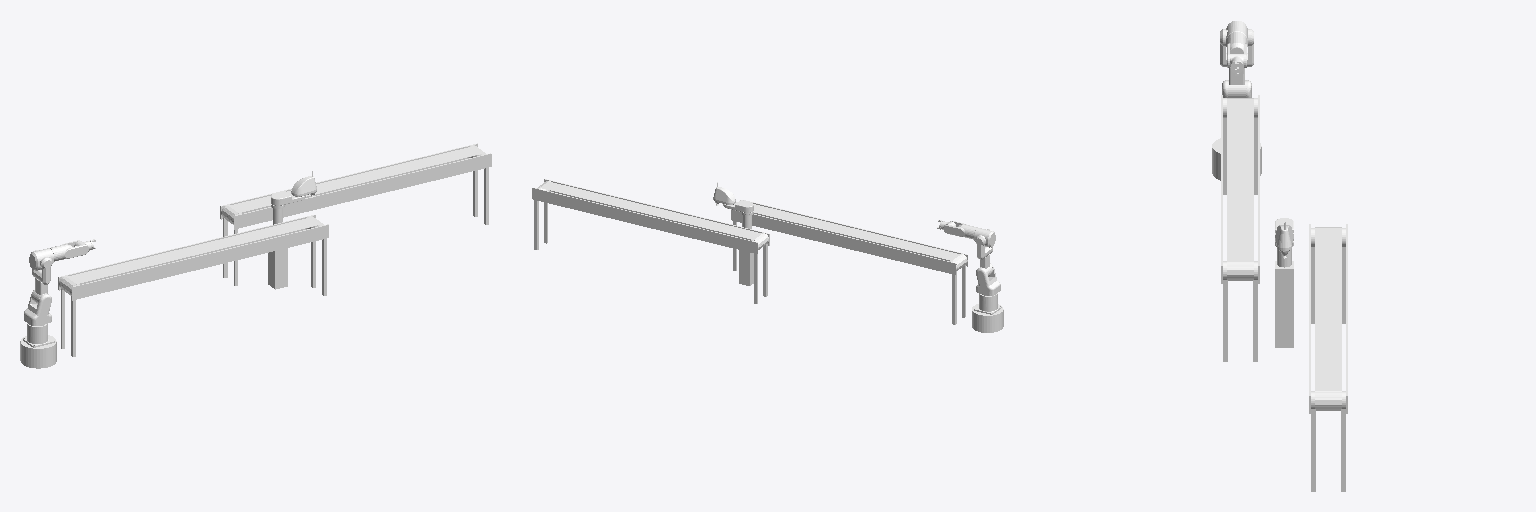
--- What the picture shows (computed from the rendered views, not written in the file) ---
3 views of the same robot in one strip: view 1: azimuth 30°, elevation 25°; view 2: azimuth 150°, elevation 25°; view 3: azimuth 270°, elevation 25° (orthographic).
Model rod_projekt2 with 20 links and 19 joints (9 revolute, 3 prismatic, 7 fixed), rooted at world, posed every joint at zero.
Visible links, largest first — view 1: conveyor1_joint, conveyor2_joint, sixaxissocket, scarasocket_joint, sixaxis_j1, sixaxis_j2; view 2: conveyor2_joint, conveyor1_joint, sixaxissocket, sixaxis_j1; view 3: conveyor2_joint, conveyor1_joint, scarasocket_joint, sixaxis_j2.
Link boxes in pixels (bbox=[...]): conveyor1_joint: bbox=[58, 215, 328, 356]; conveyor2_joint: bbox=[220, 143, 491, 285]; sixaxissocket: bbox=[20, 335, 56, 368]; scarasocket_joint: bbox=[268, 248, 287, 289]; sixaxis_j1: bbox=[24, 290, 51, 325]; sixaxis_j2: bbox=[32, 250, 51, 303]; conveyor2_joint: bbox=[532, 179, 769, 303]; conveyor1_joint: bbox=[731, 200, 967, 324]; sixaxissocket: bbox=[972, 304, 1003, 332]; sixaxis_j1: bbox=[976, 263, 1000, 295]; conveyor2_joint: bbox=[1309, 224, 1347, 491]; conveyor1_joint: bbox=[1221, 95, 1259, 361]; scarasocket_joint: bbox=[1275, 261, 1293, 347]; sixaxis_j2: bbox=[1220, 29, 1253, 97].
Size in the robot's own frame: 7.9 by 1.37 by 1.67 metres.
Meshes: 19 distinct files referenced, 19 mesh visuals loaded (19 binary STL).

The robot description file, URDF, robot "rod_projekt2":
<?xml version="1.0" encoding="utf-8" ?>
<!-- This URDF was automatically created by SolidWorks to URDF Exporter! Originally created by Stephen Brawner ([email redacted]) 
     Commit Version: 1.6.0-4-g7f85cfe  Build Version: 1.6.7995.38578
     For more information, please see http://wiki.ros.org/sw_urdf_exporter -->
<robot name="rod_projekt2">
    <!-- Root-Link: "world" -->
    <link name="world">
        <inertial>
            <mass value="0.001" />
            <inertia ixx="0.001" ixy="0" ixz="0" iyy="0.001" iyz="0" izz="0.001" />
        </inertial>
    </link>
    <!-- Verbinde "world" mit "baselink" -->
    <joint name="world_to_base_joint" type="fixed">
        <parent link="world" />
        <child link="baselink" />
        <origin xyz="0 0 0" rpy="0 0 0" />
    </joint>
    <link name="baselink">
        <inertial>
            <origin xyz="2.4124611990646 1.04377091218881 0.64" rpy="0 0 0" />
            <mass value="46.1322926928931" />
            <inertia ixx="0.490071729660883" ixy="3.21899023150044E-18" ixz="-8.11670976067688E-20" iyy="0.131263595085593" iyz="-6.1674335020889E-18" izz="0.490071729660883" />
        </inertial>
        <visual>
            <origin xyz="0 0 0" rpy="0 0 0" />
            <geometry>
                <mesh filename="package://rod_projekt2/meshes/baselink.STL" />
            </geometry>
            <material name="">
                <color rgba="1 1 1 1" />
            </material>
        </visual>
        <collision>
            <origin xyz="0 0 0" rpy="0 0 0" />
            <geometry>
                <mesh filename="package://rod_projekt2/meshes/baselink.STL" />
            </geometry>
        </collision>
    </link>
    <link name="scara_basejoint">
        <inertial>
            <origin xyz="0.075 0 0.16377" rpy="0 0 0" />
            <mass value="46.132" />
            <inertia ixx="0.49007" ixy="9.4154E-20" ixz="3.2108E-18" iyy="0.49007" iyz="5.7519E-18" izz="0.13126" />
        </inertial>
        <visual>
            <origin xyz="0 0 0" rpy="0 0 0" />
            <geometry>
                <mesh filename="package://rod_projekt2/meshes/scara_basejoint.STL" />
            </geometry>
            <material name="">
                <color rgba="1 1 1 1" />
            </material>
        </visual>
        <collision>
            <origin xyz="0 0 0" rpy="0 0 0" />
            <geometry>
                <mesh filename="package://rod_projekt2/meshes/scara_basejoint.STL" />
            </geometry>
        </collision>
    </link>
    <joint name="sj0" type="fixed">
        <origin xyz="2.3374611990646 -0.64 0.88" rpy="0 0 0" />
        <parent link="baselink" />
        <child link="scara_basejoint" />
        <axis xyz="0 0 0" />
    </joint>
    <link name="scara_j1">
        <inertial>
            <origin xyz="0.22082 9.31E-07 0.051377" rpy="0 0 0" />
            <mass value="49.593" />
            <inertia ixx="0.2229" ixy="-2.8701E-17" ixz="0.073968" iyy="0.73689" iyz="1.955E-17" izz="0.86509" />
        </inertial>
        <visual>
            <origin xyz="0 0 0" rpy="0 0 0" />
            <geometry>
                <mesh filename="package://rod_projekt2/meshes/scara_j1.STL" />
            </geometry>
            <material name="">
                <color rgba="1 1 1 1" />
            </material>
        </visual>
        <collision>
            <origin xyz="0 0 0" rpy="0 0 0" />
            <geometry>
                <mesh filename="package://rod_projekt2/meshes/scara_j1.STL" />
            </geometry>
        </collision>
    </link>
    <joint name="sj1" type="revolute">
        <origin xyz="-0.025 0 0.375" rpy="0 0 0" />
        <parent link="scara_basejoint" />
        <child link="scara_j1" />
        <axis xyz="0 0 1" />
        <limit lower="-2.7" upper="2.7" effort="10" velocity="9.2" />
        <dynamics damping="10" friction="0.1" />
    </joint>
    <link name="scara_j2">
        <inertial>
            <origin xyz="-0.21736 2.0369E-08 -0.084883" rpy="0 0 0" />
            <mass value="32.585" />
            <inertia ixx="0.16446" ixy="-2.6672E-07" ixz="0.005016" iyy="0.37728" iyz="1.5574E-07" izz="0.32874" />
        </inertial>
        <visual>
            <origin xyz="0 0 0" rpy="0 0 0" />
            <geometry>
                <mesh filename="package://rod_projekt2/meshes/scara_j2.STL" />
            </geometry>
            <material name="">
                <color rgba="1 1 1 1" />
            </material>
        </visual>
        <collision>
            <origin xyz="0 0 0" rpy="0 0 0" />
            <geometry>
                <mesh filename="package://rod_projekt2/meshes/scara_j2.STL" />
            </geometry>
        </collision>
    </link>
    <joint name="sj2" type="revolute">
        <origin xyz="0.32045 0 0.06" rpy="3.1416 0 3.1416" />
        <parent link="scara_j1" />
        <child link="scara_j2" />
        <axis xyz="0 0 1" />
        <limit lower="-2.7" upper="2.7" effort="10" velocity="9.2" />
        <dynamics damping="10" friction="0.1" />
    </joint>
    <link name="scara_j3">
        <inertial>
            <origin xyz="-0.01 -1.1102E-16 -0.185" rpy="0 0 0" />
            <mass value="0.46031" />
            <inertia ixx="0.0052628" ixy="-2.3008E-35" ixz="-5.772E-20" iyy="0.0052628" iyz="-2.5583E-19" izz="2.3015E-05" />
        </inertial>
        <visual>
            <origin xyz="0 0 0" rpy="0 0 0" />
            <geometry>
                <mesh filename="package://rod_projekt2/meshes/scara_j3.STL" />
            </geometry>
            <material name="">
                <color rgba="1 1 1 1" />
            </material>
        </visual>
        <collision>
            <origin xyz="0 0 0" rpy="0 0 0" />
            <geometry>
                <mesh filename="package://rod_projekt2/meshes/scara_j3.STL" />
            </geometry>
        </collision>
    </link>
    <joint name="sj3" type="prismatic">
        <origin xyz="-0.31955 0 0.06926" rpy="0 0 0" />
        <parent link="scara_j2" />
        <child link="scara_j3" />
        <axis xyz="0 0 1" />
        <limit lower="0" upper="0.32" effort="10" velocity="2" />
        <dynamics damping="10" friction="0.1" />
    </joint>
    <link name="scara_jEE">
        <inertial>
            <origin xyz="0.011193 0.0086433 0.011596" rpy="0 0 0" />
            <mass value="0.0073471" />
            <inertia ixx="1.5696E-06" ixy="-2.647E-22" ixz="-7.7943E-22" iyy="1.5696E-06" iyz="-2.5974E-23" izz="2.4657E-06" />
        </inertial>
        <visual>
            <origin xyz="0 0 0" rpy="0 0 0" />
            <geometry>
                <mesh filename="package://rod_projekt2/meshes/scara_jEE.STL" />
            </geometry>
            <material name="">
                <color rgba="1 1 1 1" />
            </material>
        </visual>
        <collision>
            <origin xyz="0 0 0" rpy="0 0 0" />
            <geometry>
                <mesh filename="package://rod_projekt2/meshes/scara_jEE.STL" />
            </geometry>
        </collision>
    </link>
    <joint name="sjEE" type="revolute">
        <origin xyz="0 0.01 0" rpy="0 0 -3.0137" />
        <parent link="scara_j3" />
        <child link="scara_jEE" />
        <axis xyz="0 0 1" />
        <limit lower="-6.2" upper="6.2" effort="10" velocity="41.9" />
        <dynamics damping="10" friction="0.1" />
    </joint>
    <link name="sixaxis_joint">
        <inertial>
            <origin xyz="-0.18625 0.158 0.14734" rpy="0 0 0" />
            <mass value="172.39" />
            <inertia ixx="2.4169" ixy="3.8862E-17" ixz="0.040811" iyy="2.4528" iyz="5.2177E-16" izz="1.9871" />
        </inertial>
        <visual>
            <origin xyz="0 0 0" rpy="0 0 0" />
            <geometry>
                <mesh filename="package://rod_projekt2/meshes/sixaxis_joint.STL" />
            </geometry>
            <material name="">
                <color rgba="1 1 1 1" />
            </material>
        </visual>
        <collision>
            <origin xyz="0 0 0" rpy="0 0 0" />
            <geometry>
                <mesh filename="package://rod_projekt2/meshes/sixaxis_joint.STL" />
            </geometry>
        </collision>
    </link>
    <joint name="saj0" type="fixed">
        <origin xyz="-1.5115 -1.28 0.3" rpy="0 0 0" />
        <parent link="baselink" />
        <child link="sixaxis_joint" />
        <axis xyz="0 0 0" />
    </joint>
    <link name="sixaxis_j1">
        <inertial>
            <origin xyz="0.166407888777253 0.00270619711331221 0.131756348004992" rpy="0 0 0" />
            <mass value="164.220243766125" />
            <inertia ixx="3.1527749049479" ixy="0.0229019541898426" ixz="0.258298374909936" iyy="2.83920937497612" iyz="-0.0879512707996945" izz="2.5052516173233" />
        </inertial>
        <visual>
            <origin xyz="0 0 0" rpy="0 0 0" />
            <geometry>
                <mesh filename="package://rod_projekt2/meshes/sixaxis_j1.STL" />
            </geometry>
            <material name="">
                <color rgba="1 1 1 1" />
            </material>
        </visual>
        <collision>
            <origin xyz="0 0 0" rpy="0 0 0" />
            <geometry>
                <mesh filename="package://rod_projekt2/meshes/sixaxis_j1.STL" />
            </geometry>
        </collision>
    </link>
    <joint name="saj1" type="revolute">
        <origin xyz="-0.18117 0.158 0.317" rpy="0 0 3.1416" />
        <parent link="sixaxis_joint" />
        <child link="sixaxis_j1" />
        <axis xyz="0 0 1" />
        <limit lower="-4.3" upper="4.3" effort="10" velocity="8" />
        <dynamics damping="10" friction="0.1" />
    </joint>
    <link name="sixaxis_j2">
        <inertial>
            <origin xyz="0.099999995682398 0.258404064748791 -0.00035671799470105" rpy="0 0 0" />
            <mass value="151.815580162929" />
            <inertia ixx="3.13807003006497" ixy="7.52213431799499E-08" ixz="-3.89620739979185E-07" iyy="1.57443223206953" iyz="0.102886484823696" izz="2.07831344045908" />
        </inertial>
        <visual>
            <origin xyz="0 0 0" rpy="0 0 0" />
            <geometry>
                <mesh filename="package://rod_projekt2/meshes/sixaxis_j2.STL" />
            </geometry>
            <material name="">
                <color rgba="1 1 1 1" />
            </material>
        </visual>
        <collision>
            <origin xyz="0 0 0" rpy="0 0 0" />
            <geometry>
                <mesh filename="package://rod_projekt2/meshes/sixaxis_j2.STL" />
            </geometry>
        </collision>
    </link>
    <joint name="saj2" type="revolute">
        <origin xyz="-0.054129 -0.002 0.32966" rpy="1.5708 0 0" />
        <parent link="sixaxis_j1" />
        <child link="sixaxis_j2" />
        <axis xyz="0 0 1" />
        <limit lower="-2" upper="2" effort="10" velocity="6.6" />
        <dynamics damping="10" friction="0.1" />
    </joint>
    <link name="sixaxis_j3">
        <inertial>
            <origin xyz="0.00477403537382637 0.0140978139883048 -0.113360157742862" rpy="0 0 0" />
            <mass value="96.5882594701658" />
            <inertia ixx="0.992964122192071" ixy="0.00372656475176859" ixz="-0.00446756292674667" iyy="0.882062716412936" iyz="-0.0866313255434464" izz="0.748146671136659" />
        </inertial>
        <visual>
            <origin xyz="0 0 0" rpy="0 0 0" />
            <geometry>
                <mesh filename="package://rod_projekt2/meshes/sixaxis_j3.STL" />
            </geometry>
            <material name="">
                <color rgba="1 1 1 1" />
            </material>
        </visual>
        <collision>
            <origin xyz="0 0 0" rpy="0 0 0" />
            <geometry>
                <mesh filename="package://rod_projekt2/meshes/sixaxis_j3.STL" />
            </geometry>
        </collision>
    </link>
    <joint name="saj3" type="revolute">
        <origin xyz="0 0.556 0" rpy="-1.5708 0 0" />
        <parent link="sixaxis_j2" />
        <child link="sixaxis_j3" />
        <axis xyz="0 1 0" />
        <limit lower="-3.6" upper="1" effort="10" velocity="4.9" />
        <dynamics damping="10" friction="0.1" />
    </joint>
    <link name="sixaxis_j4">
        <inertial>
            <origin xyz="0.000575031491278022 -1.46367007403114E-09 0.230214046287128" rpy="0 0 0" />
            <mass value="103.895632295874" />
            <inertia ixx="2.36014054037978" ixy="4.11178078944612E-07" ixz="-0.0166553919102085" iyy="2.48389418843073" iyz="8.85356435200728E-09" izz="0.597811257920955" />
        </inertial>
        <visual>
            <origin xyz="0 0 0" rpy="0 0 0" />
            <geometry>
                <mesh filename="package://rod_projekt2/meshes/sixaxis_j4.STL" />
            </geometry>
            <material name="">
                <color rgba="1 1 1 1" />
            </material>
        </visual>
        <collision>
            <origin xyz="0 0 0" rpy="0 0 0" />
            <geometry>
                <mesh filename="package://rod_projekt2/meshes/sixaxis_j4.STL" />
            </geometry>
        </collision>
    </link>
    <joint name="saj4" type="revolute">
        <origin xyz="-0.12767 0 0.064" rpy="-1.5708 0 1.5708" />
        <parent link="sixaxis_j3" />
        <child link="sixaxis_j4" />
        <axis xyz="0 0 1" />
        <limit lower="-7" upper="7" effort="10" velocity="9.8" />
        <dynamics damping="10" friction="0.1" />
    </joint>
    <link name="sixaxis_j5">
        <inertial>
            <origin xyz="-0.00132228380306176 -0.105473198222159 0.064486899124544" rpy="0 0 0" />
            <mass value="23.7724316733649" />
            <inertia ixx="0.1051788978244" ixy="-3.63114897995818E-08" ixz="7.90289903055959E-08" iyy="0.0644734231624818" iyz="0.0017442400121925" izz="0.110248713744064" />
        </inertial>
        <visual>
            <origin xyz="0 0 0" rpy="0 0 0" />
            <geometry>
                <mesh filename="package://rod_projekt2/meshes/sixaxis_j5.STL" />
            </geometry>
            <material name="">
                <color rgba="1 1 1 1" />
            </material>
        </visual>
        <collision>
            <origin xyz="0 0 0" rpy="0 0 0" />
            <geometry>
                <mesh filename="package://rod_projekt2/meshes/sixaxis_j5.STL" />
            </geometry>
        </collision>
    </link>
    <joint name="saj5" type="revolute">
        <origin xyz="-0.067 0 0.43271" rpy="-1.5708 0.017333 -1.5708" />
        <parent link="sixaxis_j4" />
        <child link="sixaxis_j5" />
        <axis xyz="0 1 0" />
        <limit lower="-2.2" upper="2.1" effort="10" velocity="7.3" />
        <dynamics damping="10" friction="0.1" />
    </joint>
    <link name="sixaxis_j6">
        <inertial>
            <origin xyz="-0.000713321367931341 0 0.036266834544977" rpy="0 0 0" />
            <mass value="2.91352376315292" />
            <inertia ixx="0.00448039616987277" ixy="-3.76127611298156E-21" ixz="8.50421079043318E-18" iyy="0.00446708256987277" iyz="-2.35027871789775E-19" izz="0.00668986164707731" />
        </inertial>
        <visual>
            <origin xyz="0 0 0" rpy="0 0 0" />
            <geometry>
                <mesh filename="package://rod_projekt2/meshes/sixaxis_j6.STL" />
            </geometry>
            <material name="">
                <color rgba="1 1 1 1" />
            </material>
        </visual>
        <collision>
            <origin xyz="0 0 0" rpy="0 0 0" />
            <geometry>
                <mesh filename="package://rod_projekt2/meshes/sixaxis_j6.STL" />
            </geometry>
        </collision>
    </link>
    <joint name="saj6" type="revolute">
        <origin xyz="-0.00060895 -0.17613 0.067" rpy="1.5708 0 0" />
        <parent link="sixaxis_j5" />
        <child link="sixaxis_j6" />
        <axis xyz="0 0 1" />
        <limit lower="-14" upper="14" effort="100" velocity="13.1" />
        <dynamics damping="0.01" friction="0.1" />
    </joint>
    <link name="sixaxis_jGripper1">
        <inertial>
            <origin xyz="-1.62629007463248 -1.1315 -0.798605535675052" rpy="0 0 0" />
            <mass value="0.5024" />
            <inertia ixx="0.000394593333333336" ixy="2.19799999999998E-05" ixz="0.000194679999999999" iyy="0.000545313333333333" iyz="-4.39600000000003E-05" izz="0.000228173333333331" />
        </inertial>
        <visual>
            <origin xyz="0 0 0" rpy="0 0 0" />
            <geometry>
                <mesh filename="package://rod_projekt2/meshes/sixaxis_jGripper1.STL" />
            </geometry>
            <material name="">
                <color rgba="1 1 1 1" />
            </material>
        </visual>
        <collision>
            <origin xyz="0 0 0" rpy="0 0 0" />
            <geometry>
                <mesh filename="package://rod_projekt2/meshes/sixaxis_jGripper1.STL" />
            </geometry>
        </collision>
    </link>
    <joint name="saEE1" type="prismatic">
        <origin xyz="-1.5845 -1.12 0.87475" rpy="0 0 3.1416" />
        <parent link="sixaxis_j6" />
        <child link="sixaxis_jGripper1" />
        <axis xyz="0 0 1" />
        <limit lower="-20" upper="0" effort="10" velocity="3.14" />
        <dynamics damping="10" friction="0.1" />
    </joint>
    <link name="sixaxis_jGripper2">
        <inertial>
            <origin xyz="1.54129007463247 1.1085 -0.79860553567507" rpy="0 0 0" />
            <mass value="0.5024" />
            <inertia ixx="0.000394593333333336" ixy="2.19799999999997E-05" ixz="0.000194679999999999" iyy="0.000545313333333333" iyz="-4.39600000000002E-05" izz="0.000228173333333331" />
        </inertial>
        <visual>
            <origin xyz="0 0 0" rpy="0 0 0" />
            <geometry>
                <mesh filename="package://rod_projekt2/meshes/sixaxis_jGripper2.STL" />
            </geometry>
            <material name="">
                <color rgba="1 1 1 1" />
            </material>
        </visual>
        <collision>
            <origin xyz="0 0 0" rpy="0 0 0" />
            <geometry>
                <mesh filename="package://rod_projekt2/meshes/sixaxis_jGripper2.STL" />
            </geometry>
        </collision>
    </link>
    <joint name="saEE2" type="prismatic">
        <origin xyz="-1.5845 -1.12 0.87475" rpy="0 0 0" />
        <parent link="sixaxis_j6" />
        <child link="sixaxis_jGripper2" />
        <axis xyz="0 0 1" />
        <limit lower="0" upper="20" effort="10" velocity="3.14" />
        <dynamics damping="10" friction="0.1" />
    </joint>
    <link name="conveyor1_joint">
        <inertial>
            <origin xyz="0.175 0.0218 -0.81251" rpy="0 0 0" />
            <mass value="64.823" />
            <inertia ixx="69.361" ixy="7.6248E-17" ixz="6.1052E-15" iyy="68.535" iyz="0.0012967" izz="1.3786" />
        </inertial>
        <visual>
            <origin xyz="0 0 0" rpy="0 0 0" />
            <geometry>
                <mesh filename="package://rod_projekt2/meshes/conveyor1_joint.STL" />
            </geometry>
            <material name="">
                <color rgba="1 1 1 1" />
            </material>
        </visual>
        <collision>
            <origin xyz="0 0 0" rpy="0 0 0" />
            <geometry>
                <mesh filename="package://rod_projekt2/meshes/conveyor1_joint.STL" />
            </geometry>
        </collision>
    </link>
    <joint name="c1" type="fixed">
        <origin xyz="0 -1.26 0.98" rpy="-1.5708 0 1.5708" />
        <parent link="baselink" />
        <child link="conveyor1_joint" />
        <axis xyz="0 0 0" />
    </joint>
    <link name="conveyor2_joint">
        <inertial>
            <origin xyz="0.175 -2.053 0.0218" rpy="0 0 0" />
            <mass value="64.823" />
            <inertia ixx="69.361" ixy="-2.9977E-15" ixz="4.8068E-18" iyy="1.3786" iyz="0.0012967" izz="68.535" />
        </inertial>
        <visual>
            <origin xyz="0 0 0" rpy="0 0 0" />
            <geometry>
                <mesh filename="package://rod_projekt2/meshes/conveyor2_joint.STL" />
            </geometry>
            <material name="">
                <color rgba="1 1 1 1" />
            </material>
        </visual>
        <collision>
            <origin xyz="0 0 0" rpy="0 0 0" />
            <geometry>
                <mesh filename="package://rod_projekt2/meshes/conveyor2_joint.STL" />
            </geometry>
        </collision>
    </link>
    <joint name="c2" type="fixed">
        <origin xyz="1.8595 -0.02 0.98" rpy="3.1416 0 -1.5708" />
        <parent link="baselink" />
        <child link="conveyor2_joint" />
        <axis xyz="0 0 0" />
    </joint>
    <link name="scarasocket_joint">
        <inertial>
            <origin xyz="0.1 0.44 0" rpy="0 0 0" />
            <mass value="35.2" />
            <inertia ixx="2.3889" ixy="-1.7526E-34" ixz="1.2064E-17" iyy="0.23467" iyz="3.7117E-32" izz="2.3889" />
        </inertial>
        <visual>
            <origin xyz="0 0 0" rpy="0 0 0" />
            <geometry>
                <mesh filename="package://rod_projekt2/meshes/scarasocket_joint.STL" />
            </geometry>
            <material name="">
                <color rgba="1 1 1 1" />
            </material>
        </visual>
        <collision>
            <origin xyz="0 0 0" rpy="0 0 0" />
            <geometry>
                <mesh filename="package://rod_projekt2/meshes/scarasocket_joint.STL" />
            </geometry>
        </collision>
    </link>
    <joint name="sb" type="fixed">
        <origin xyz="2.3125 -0.64 0" rpy="1.5708 0 0" />
        <parent link="baselink" />
        <child link="scarasocket_joint" />
        <axis xyz="0 0 0" />
    </joint>
    <link name="sixaxissocket">
        <inertial>
            <origin xyz="-0.25 0.15 0" rpy="0 0 0" />
            <mass value="58.905" />
            <inertia ixx="1.3622" ixy="-4.2687E-33" ixz="0" iyy="1.8408" iyz="-6.0185E-33" izz="1.3622" />
        </inertial>
        <visual>
            <origin xyz="0 0 0" rpy="0 0 0" />
            <geometry>
                <mesh filename="package://rod_projekt2/meshes/sixaxissocket.STL" />
            </geometry>
            <material name="">
                <color rgba="1 1 1 1" />
            </material>
        </visual>
        <collision>
            <origin xyz="0 0 0" rpy="0 0 0" />
            <geometry>
                <mesh filename="package://rod_projekt2/meshes/sixaxissocket.STL" />
            </geometry>
        </collision>
    </link>
    <joint name="sab" type="fixed">
        <origin xyz="-1.4345388009354 -1.122 0" rpy="1.5707963267949 0 0" />
        <parent link="baselink" />
        <child link="sixaxissocket" />
        <axis xyz="0 0 0" />
    </joint>
    <transmission name="trans_saj1">
        <type>transmission_interface/SimpleTransmission</type>
        <joint name="saj1">
            <hardwareInterface>hardware_interface/PositionJointInterface</hardwareInterface>
        </joint>
        <actuator name="saj1_motor">
            <hardwareInterface>hardware_interface/PositionJointInterface</hardwareInterface>
            <mechanicalReduction>1</mechanicalReduction>
        </actuator>
    </transmission>
    <transmission name="trans_saj2">
        <type>transmission_interface/SimpleTransmission</type>
        <joint name="saj2">
            <hardwareInterface>hardware_interface/PositionJointInterface</hardwareInterface>
        </joint>
        <actuator name="saj2_motor">
            <hardwareInterface>hardware_interface/PositionJointInterface</hardwareInterface>
            <mechanicalReduction>1</mechanicalReduction>
        </actuator>
    </transmission>
    <transmission name="trans_saj3">
        <type>transmission_interface/SimpleTransmission</type>
        <joint name="saj3">
            <hardwareInterface>hardware_interface/PositionJointInterface</hardwareInterface>
        </joint>
        <actuator name="saj3_motor">
            <hardwareInterface>hardware_interface/PositionJointInterface</hardwareInterface>
            <mechanicalReduction>1</mechanicalReduction>
        </actuator>
    </transmission>
    <transmission name="trans_saj4">
        <type>transmission_interface/SimpleTransmission</type>
        <joint name="saj4">
            <hardwareInterface>hardware_interface/PositionJointInterface</hardwareInterface>
        </joint>
        <actuator name="saj4_motor">
            <hardwareInterface>hardware_interface/PositionJointInterface</hardwareInterface>
            <mechanicalReduction>1</mechanicalReduction>
        </actuator>
    </transmission>
    <transmission name="trans_saj5">
        <type>transmission_interface/SimpleTransmission</type>
        <joint name="saj5">
            <hardwareInterface>hardware_interface/PositionJointInterface</hardwareInterface>
        </joint>
        <actuator name="saj5_motor">
            <hardwareInterface>hardware_interface/PositionJointInterface</hardwareInterface>
            <mechanicalReduction>1</mechanicalReduction>
        </actuator>
    </transmission>
    <transmission name="trans_saj6">
        <type>transmission_interface/SimpleTransmission</type>
        <joint name="saj6">
            <hardwareInterface>hardware_interface/PositionJointInterface</hardwareInterface>
        </joint>
        <actuator name="saj6_motor">
            <hardwareInterface>hardware_interface/PositionJointInterface</hardwareInterface>
            <mechanicalReduction>1</mechanicalReduction>
        </actuator>
    </transmission>
    <transmission name="trans_sj1">
        <type>transmission_interface/SimpleTransmission</type>
        <joint name="sj1">
            <hardwareInterface>hardware_interface/PositionJointInterface</hardwareInterface>
        </joint>
        <actuator name="sj1_motor">
            <hardwareInterface>hardware_interface/PositionJointInterface</hardwareInterface>
            <mechanicalReduction>1</mechanicalReduction>
        </actuator>
    </transmission>
    <transmission name="trans_sj2">
        <type>transmission_interface/SimpleTransmission</type>
        <joint name="sj2">
            <hardwareInterface>hardware_interface/PositionJointInterface</hardwareInterface>
        </joint>
        <actuator name="sj2_motor">
            <hardwareInterface>hardware_interface/PositionJointInterface</hardwareInterface>
            <mechanicalReduction>1</mechanicalReduction>
        </actuator>
    </transmission>
    <transmission name="trans_sj3">
        <type>transmission_interface/SimpleTransmission</type>
        <joint name="sj3">
            <hardwareInterface>hardware_interface/PositionJointInterface</hardwareInterface>
        </joint>
        <actuator name="sj3_motor">
            <hardwareInterface>hardware_interface/PositionJointInterface</hardwareInterface>
            <mechanicalReduction>1</mechanicalReduction>
        </actuator>
    </transmission>
    <transmission name="trans_sjEE">
        <type>transmission_interface/SimpleTransmission</type>
        <joint name="sjEE">
            <hardwareInterface>hardware_interface/PositionJointInterface</hardwareInterface>
        </joint>
        <actuator name="sjEE_motor">
            <hardwareInterface>hardware_interface/PositionJointInterface</hardwareInterface>
            <mechanicalReduction>1</mechanicalReduction>
        </actuator>
    </transmission>
    <!-- In der URDF: Gazebo-Plugin mit Namespace -->
    <gazebo>
        <plugin name="scara_control" filename="libgazebo_ros_control.so">
            <robotNamespace>/scara</robotNamespace>
        </plugin>
        <plugin name="sixaxis_control" filename="libgazebo_ros_control.so">
            <robotNamespace>/sixaxis</robotNamespace>
        </plugin>
        <plugin name="gazebo_ros_control" filename="libgazebo_ros_control.so">
            <robotNamespace>/</robotNamespace>
        </plugin>
    </gazebo>
    <transmission name="trans_saEE1">
        <type>transmission_interface/SimpleTransmission</type>
        <joint name="saEE1">
            <hardwareInterface>hardware_interface/EffortJointInterface</hardwareInterface>
        </joint>
        <actuator name="saEE1_motor">
            <hardwareInterface>hardware_interface/EffortJointInterface</hardwareInterface>
            <mechanicalReduction>1</mechanicalReduction>
        </actuator>
    </transmission>
    <transmission name="trans_saEE2">
        <type>transmission_interface/SimpleTransmission</type>
        <joint name="saEE2">
            <hardwareInterface>hardware_interface/EffortJointInterface</hardwareInterface>
        </joint>
        <actuator name="saEE2_motor">
            <hardwareInterface>hardware_interface/EffortJointInterface</hardwareInterface>
            <mechanicalReduction>1</mechanicalReduction>
        </actuator>
    </transmission>
</robot>
